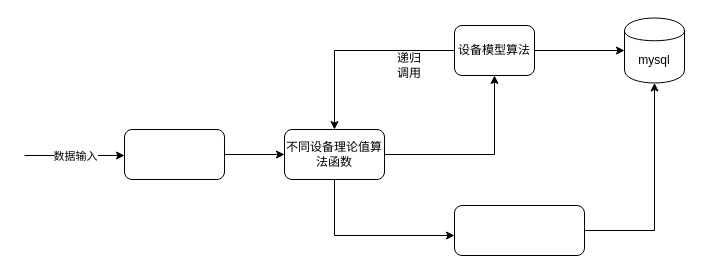
Some shapes in this 702 by 273 pixel diagram are drawn without their labels. The shapes that lost their labels are listed below. From the top down, each one's centre as x and y in pixels, then its label:
the point at 174,154: 根据工艺类型，获取工艺流程结构
the point at 519,230: 系统总量算法
